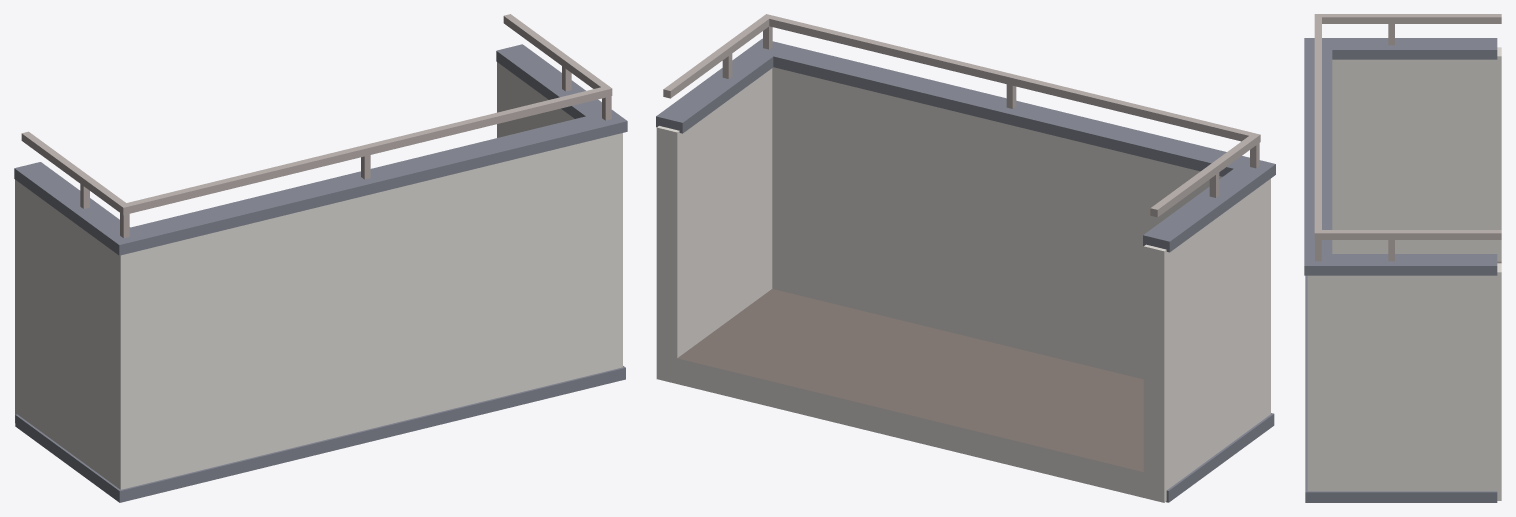
File: SM_Fixture_BalconyShort16520_White_01.gltf
3 renders of one model, left to right at view 1: azimuth 30°, elevation 25°; view 2: azimuth 150°, elevation 25°; view 3: azimuth 270°, elevation 25°, orthographic. The views are drawn at different scales.
Parts seen in each view (by area): view 1: SM_Fixture_BalconyShort16520_White_01; view 2: SM_Fixture_BalconyShort16520_White_01; view 3: SM_Fixture_BalconyShort16520_White_01.
Part boxes in pixels (x1,y1,x2,y2): SM_Fixture_BalconyShort16520_White_01: (14, 14, 627, 502); SM_Fixture_BalconyShort16520_White_01: (656, 14, 1275, 502); SM_Fixture_BalconyShort16520_White_01: (1304, 14, 1501, 502).
Size of the model in its own units: 2.5 by 1.36 by 0.915.
1 material, 1 textured.
